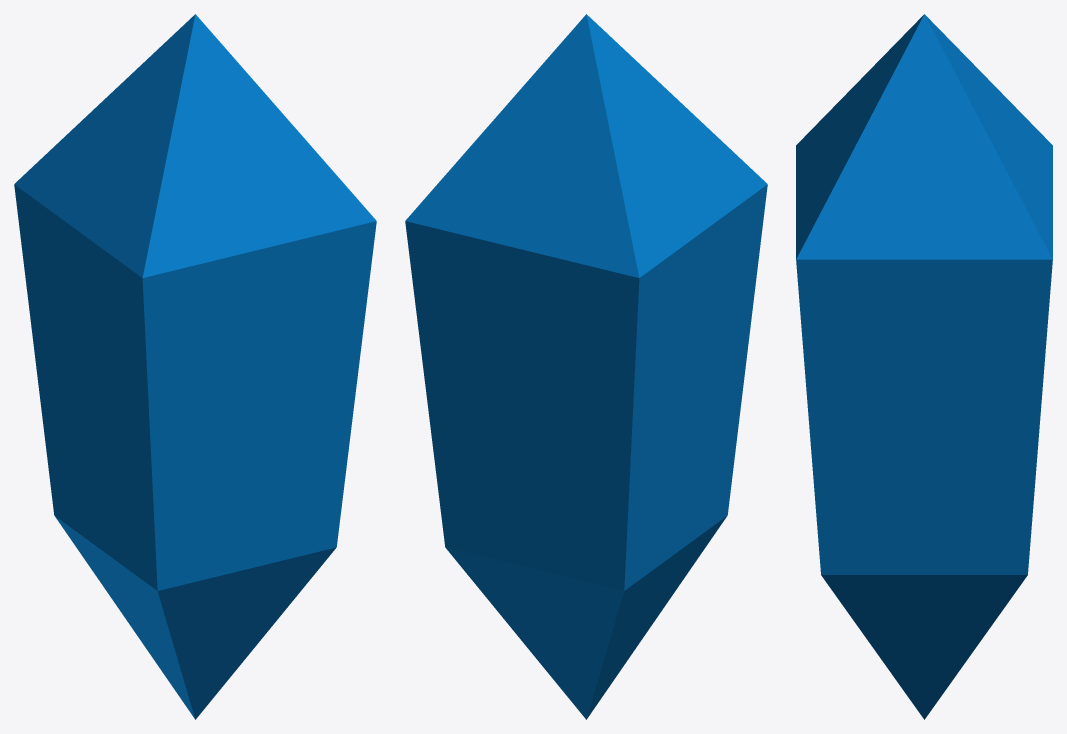
File: right_leg_upper.obj
3 views of the same model, side by side, from view 1: azimuth 30°, elevation 25°; view 2: azimuth 150°, elevation 25°; view 3: azimuth 270°, elevation 25° (orthographic).
Visible parts, largest first — view 1: right_leg_upper; view 2: right_leg_upper; view 3: right_leg_upper.
Boxes of the visible parts, x1=… form: right_leg_upper: x1=14, y1=14, x2=376, y2=719; right_leg_upper: x1=405, y1=14, x2=767, y2=719; right_leg_upper: x1=796, y1=14, x2=1052, y2=719.
Bounding box in the file's own units: 0.8654 × 2.49 × 0.8217.
